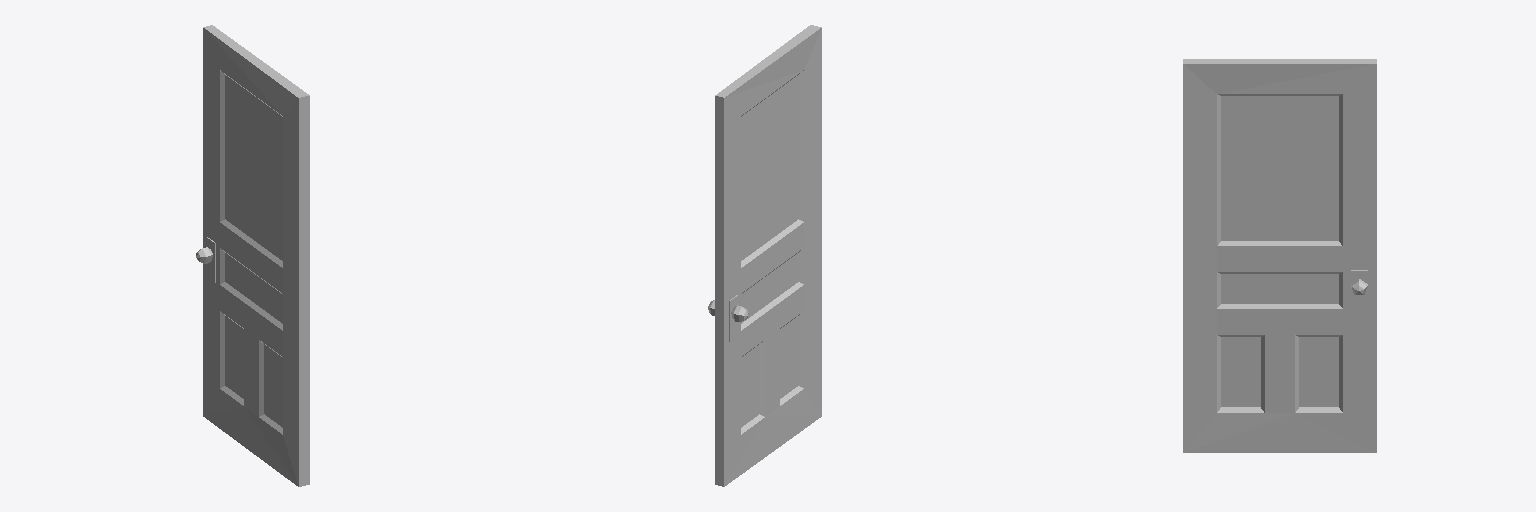
Rendered from Door_A__3.obj.
3 renders of one model, left to right at view 1: azimuth 30°, elevation 25°; view 2: azimuth 150°, elevation 25°; view 3: azimuth 270°, elevation 25°, orthographic.
Parts seen in each view (by area): view 1: Cube2; view 2: Cube2; view 3: Cube2.
Boxes of the visible parts, x1,y1,x2,y2 form: Cube2: [196, 25, 309, 486]; Cube2: [708, 25, 821, 486]; Cube2: [1183, 59, 1376, 452].
Size of the model in its own units: 0.0836 by 0.8 by 0.36.